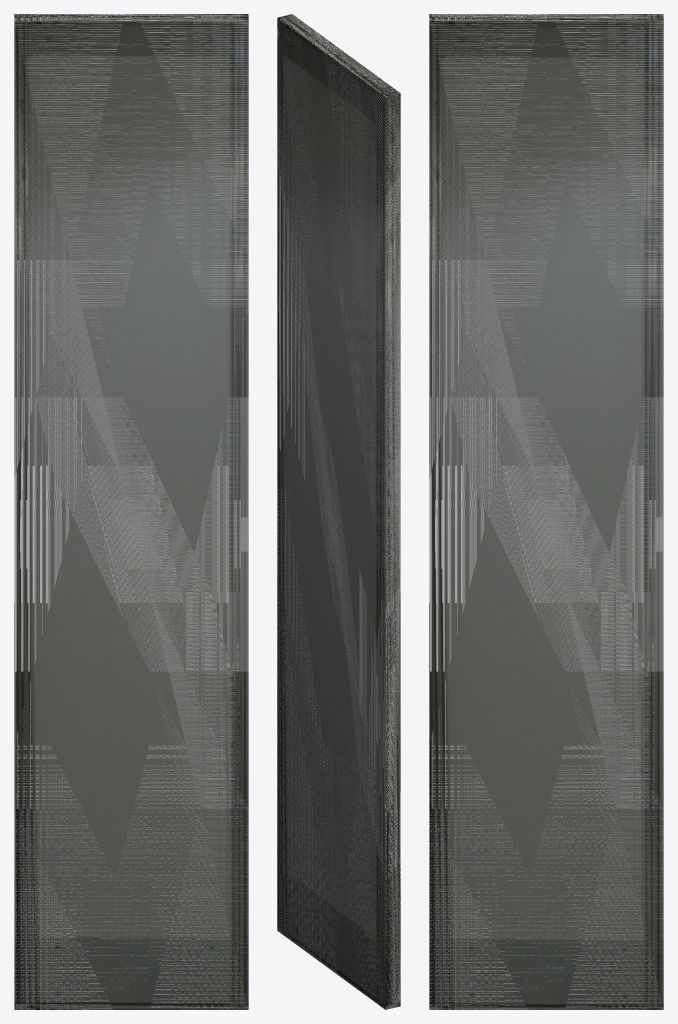
The model's file is SRS_divider4.dae.
The picture shows the model from 3 angles, left to right: view 1: azimuth 90°, elevation 25°; view 2: azimuth 210°, elevation 25°; view 3: azimuth 270°, elevation 25°; orthographic projection. The views are drawn at different scales.
Parts seen in each view (by area): view 1: SketchUp; view 2: SketchUp; view 3: SketchUp.
Part boxes in pixels (x1=…): SketchUp: x1=14, y1=14, x2=248, y2=1009; SketchUp: x1=277, y1=14, x2=400, y2=1009; SketchUp: x1=429, y1=14, x2=663, y2=1009.
Bounding box in the file's own units: 0.0453 × 0.5595 × 2.6.
Materials: 3 (1 with a texture image).
